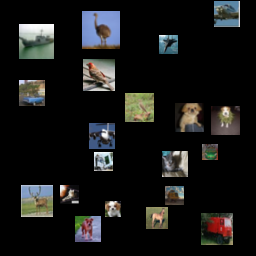airplane: (214, 1, 240, 27), (89, 123, 115, 149), (159, 35, 178, 54)
automobile: (19, 80, 45, 106), (202, 144, 218, 160)
bird: (82, 11, 120, 49), (83, 59, 115, 91), (125, 93, 154, 122)
cat: (162, 151, 188, 177), (60, 185, 79, 204)
deer: (21, 185, 53, 217)
dog: (175, 103, 204, 132), (211, 106, 240, 135), (75, 216, 101, 242), (105, 201, 121, 217)
ship: (19, 24, 54, 59)
